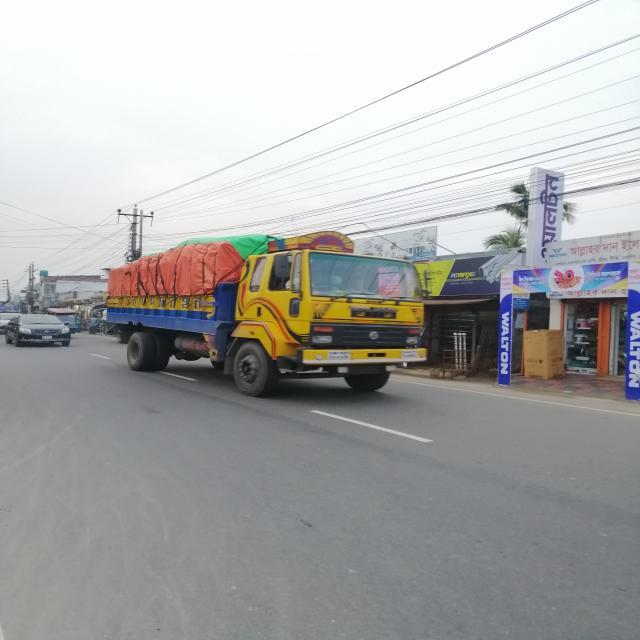Car: (6, 314, 76, 355)
Truck: (96, 230, 449, 398)
